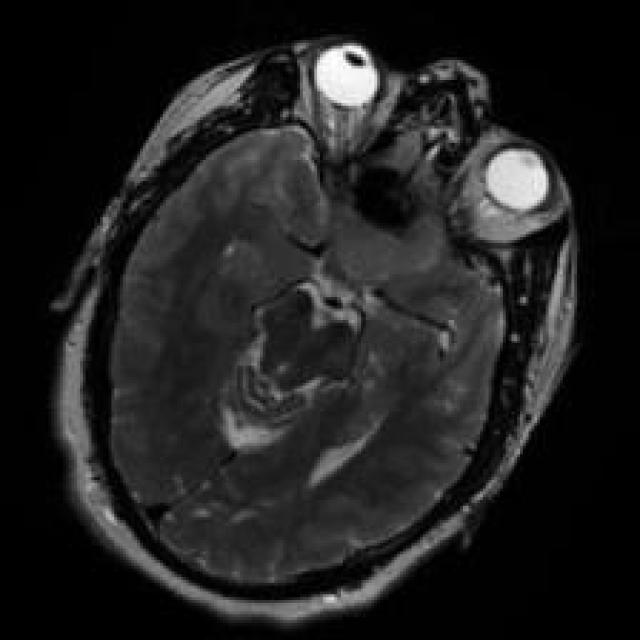no_tumor: (27, 20, 589, 640)
